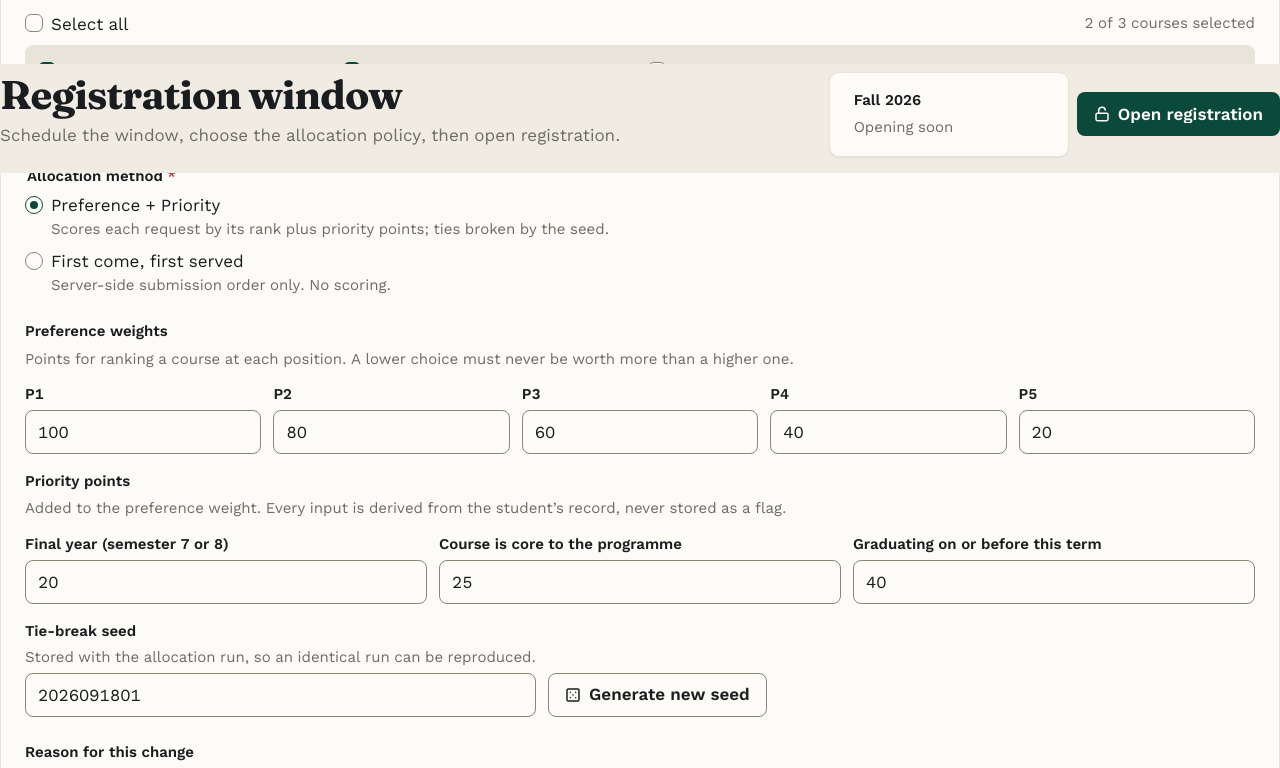
Scenario: RegistrationWindowPage › refuses weights that increase down the list
The image size is (1280, 768).
(page scrolled)
# P1 below P2 means a second choice would score higher than a first.
Replace the text in the number field labelled "P1" with "50". click: coordinates (143, 432)
box: [25, 410, 261, 454]
(page scrolled)
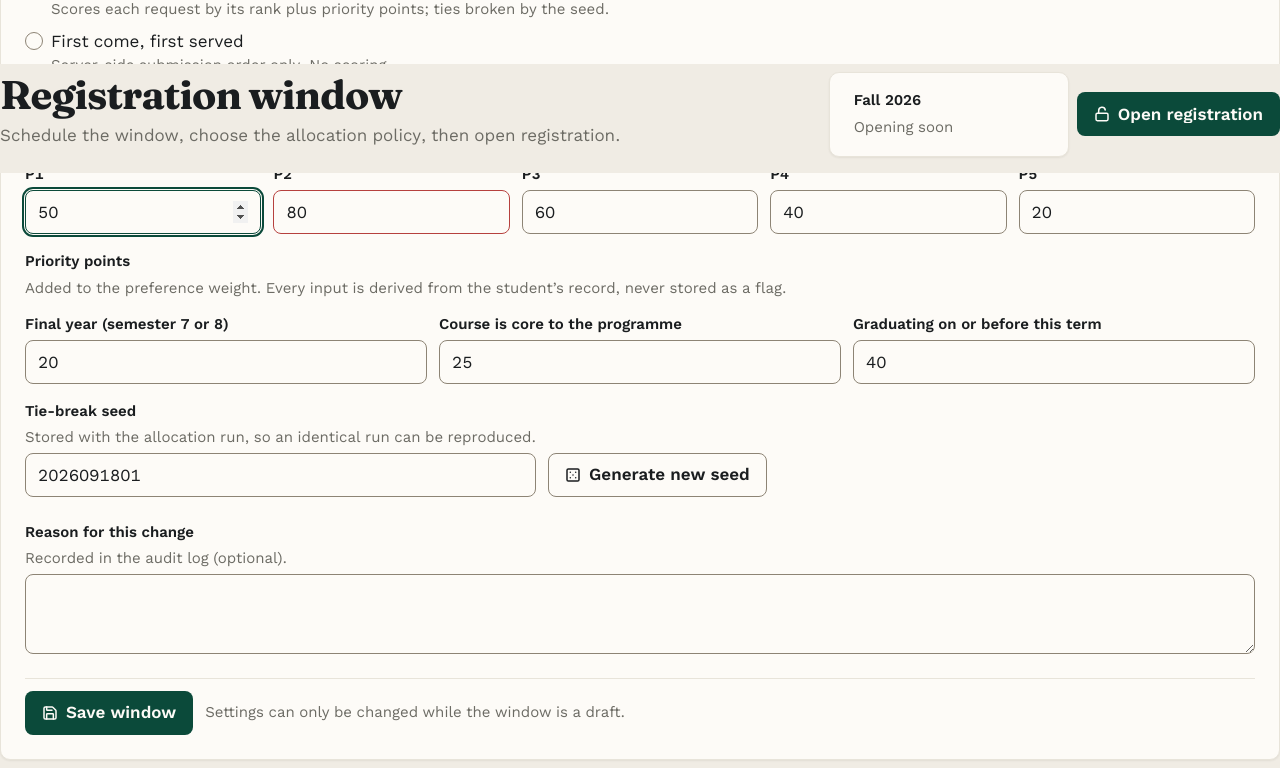
Click the button "Save window". click: coordinates (109, 713)
box: [25, 691, 193, 735]
(page scrolled)
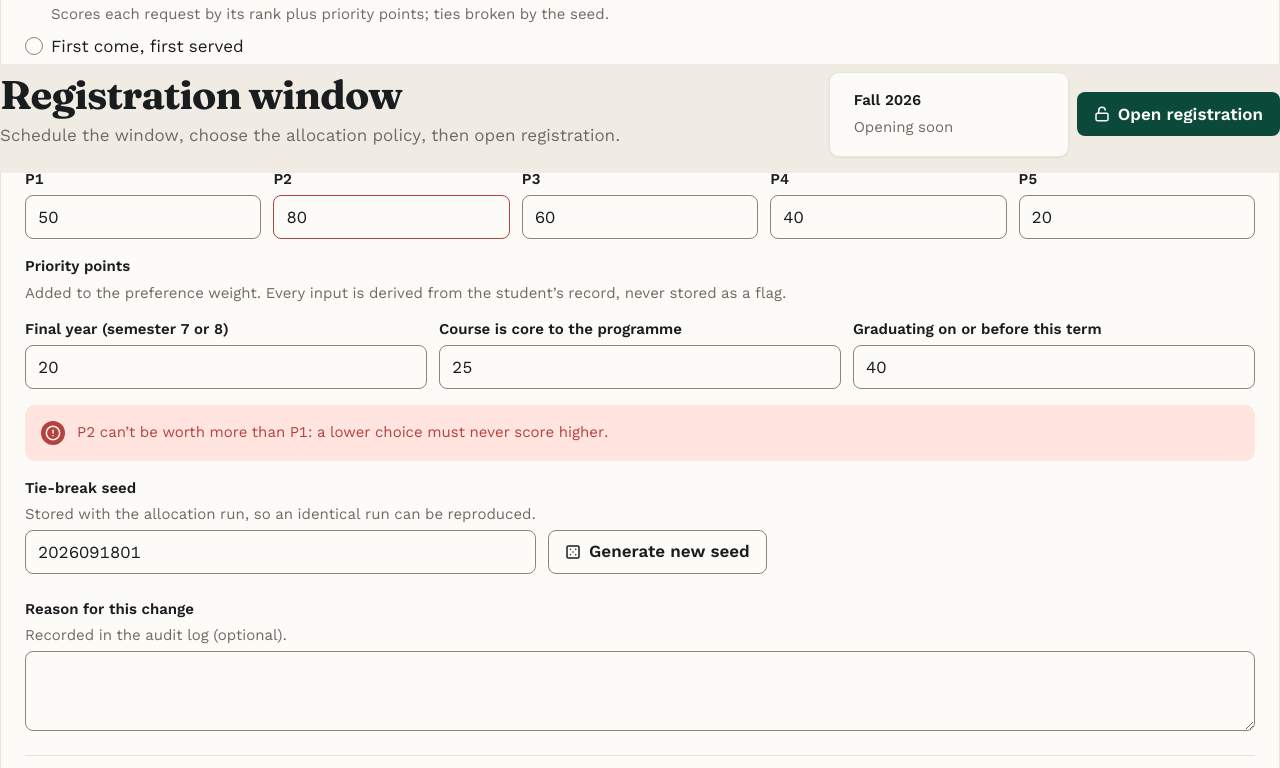
Expected: the message shows "P2 can’t be worth more than P1", [77, 423, 608, 441]
